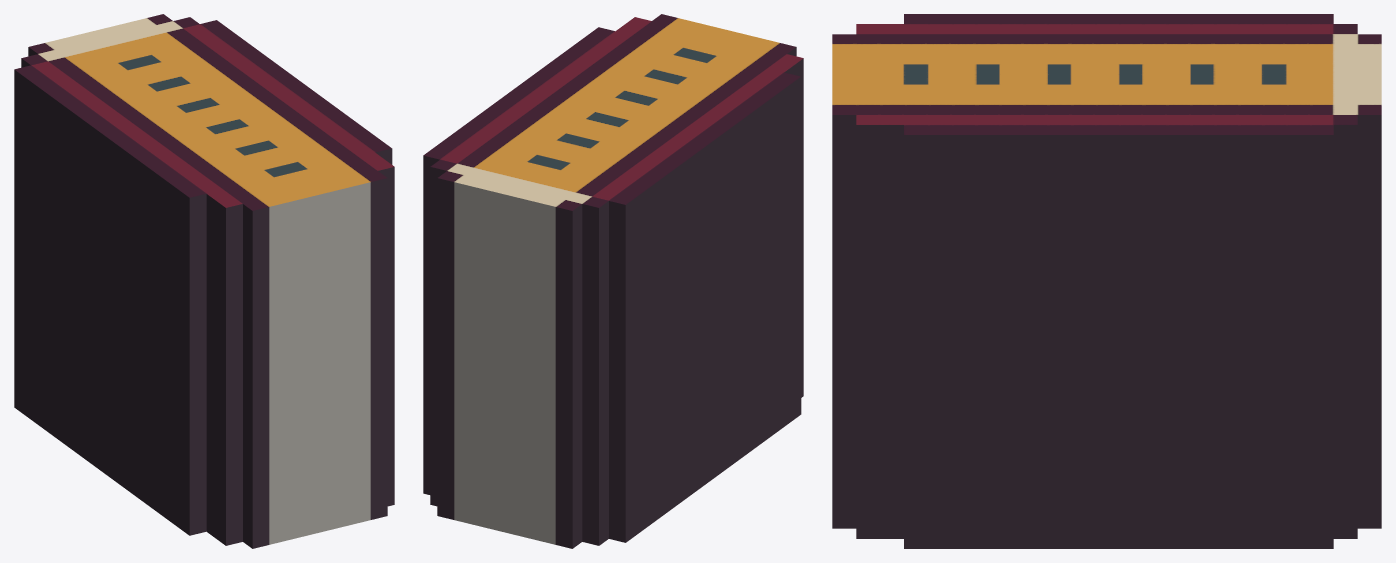
The model's file is book2.glb.
3 renders of one model, left to right at view 1: azimuth 30°, elevation 25°; view 2: azimuth 150°, elevation 25°; view 3: azimuth 270°, elevation 25°, orthographic. The views are drawn at different scales.
Visible parts, largest first — view 1: book2-1-col; view 2: book2-1-col; view 3: book2-1-col.
Part boxes in pixels (box(x1,y1,x2,y2)): book2-1-col: box(14, 14, 394, 548); book2-1-col: box(423, 14, 803, 548); book2-1-col: box(832, 14, 1381, 548).
Bounding box in the file's own units: 0.375 × 0.5979 × 0.7188.
3 materials, 1 textured.
